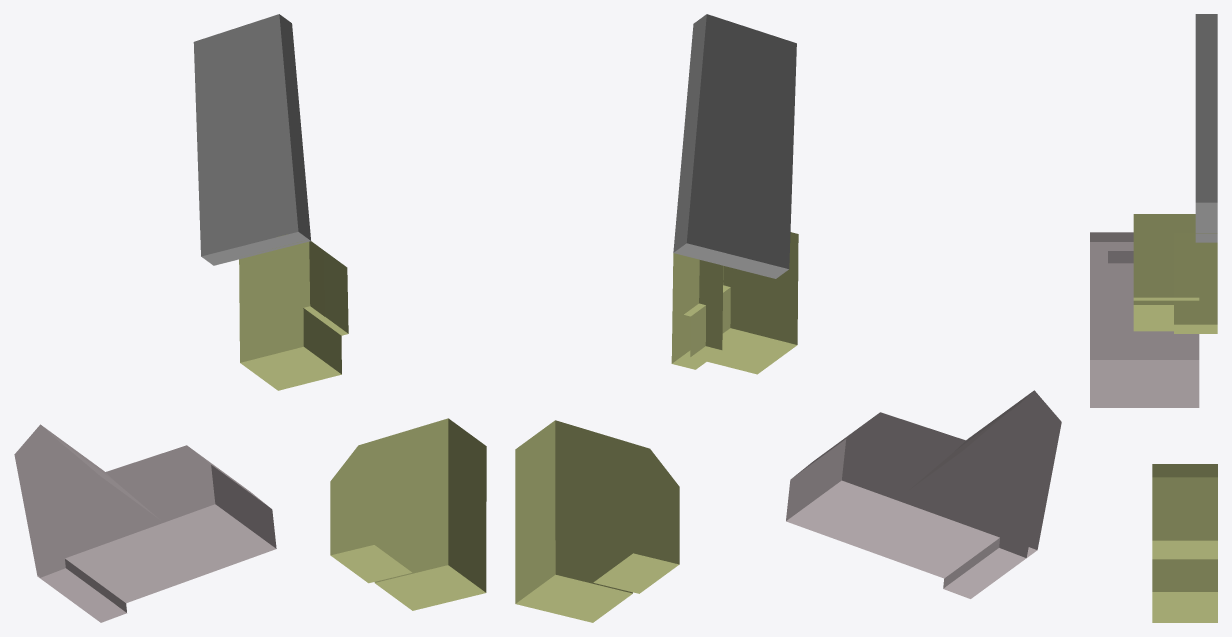
3 views of the same model, side by side, from view 1: azimuth 30°, elevation 25°; view 2: azimuth 150°, elevation 25°; view 3: azimuth 270°, elevation 25° (orthographic). The views are drawn at different scales.
Visible parts, largest first — view 1: 0_1_2_0_3_3_1_3; view 2: 0_1_2_0_3_3_1_3; view 3: 0_1_2_0_3_3_1_3.
Boxes of the visible parts, bbox=[...] form: 0_1_2_0_3_3_1_3: bbox=[14, 14, 486, 622]; 0_1_2_0_3_3_1_3: bbox=[515, 14, 1061, 622]; 0_1_2_0_3_3_1_3: bbox=[1090, 14, 1217, 622].
Bounding box in the file's own units: 60.61 × 77.13 × 17.57.
